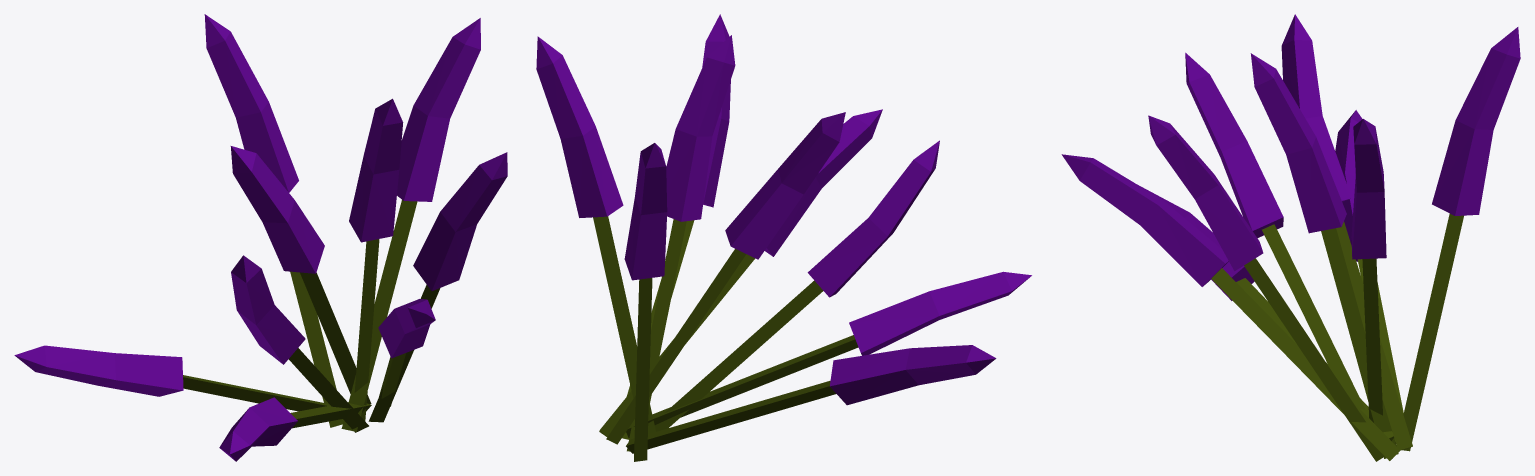
The model's file is LongPointyFlower2.fbx.
The picture shows the model from 3 angles, left to right: view 1: azimuth 30°, elevation 25°; view 2: azimuth 150°, elevation 25°; view 3: azimuth 270°, elevation 25°; orthographic projection. The views are drawn at different scales.
Visible parts, largest first — view 1: LongPointyFlower2; view 2: LongPointyFlower2; view 3: LongPointyFlower2.
Part boxes in pixels (left/top/right/bottom): LongPointyFlower2: left=14, top=14, right=507, bottom=461; LongPointyFlower2: left=536, top=14, right=1031, bottom=461; LongPointyFlower2: left=1061, top=14, right=1520, bottom=461.
Bounding box in the file's own units: 61.11 × 48.75 × 51.7.
